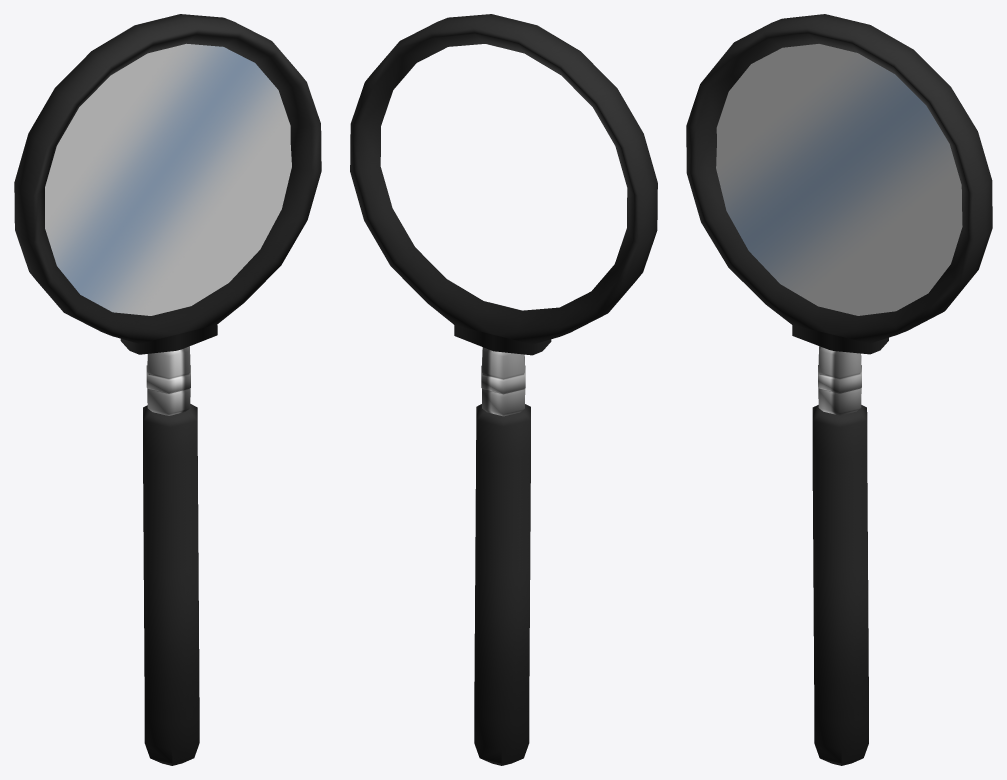
The model's file is HANDHELD_magnifyingglass.gltf.
3 views of the same model, side by side, from view 1: azimuth 30°, elevation 25°; view 2: azimuth 150°, elevation 25°; view 3: azimuth 330°, elevation 25° (orthographic).
Parts seen in each view (by area): view 1: magnifying_glass_lens, magnifying_glass_handle; view 2: magnifying_glass_handle; view 3: magnifying_glass_lens, magnifying_glass_handle.
Part boxes in pixels (x1,y1,x2,y2): magnifying_glass_lens: [45, 43, 291, 315]; magnifying_glass_handle: [14, 14, 321, 765]; magnifying_glass_handle: [350, 14, 657, 765]; magnifying_glass_lens: [716, 44, 962, 315]; magnifying_glass_handle: [686, 14, 992, 765].
Bounding box in the file's own units: 0.2791 × 0.6703 × 0.0451.
1 material, 1 textured.
